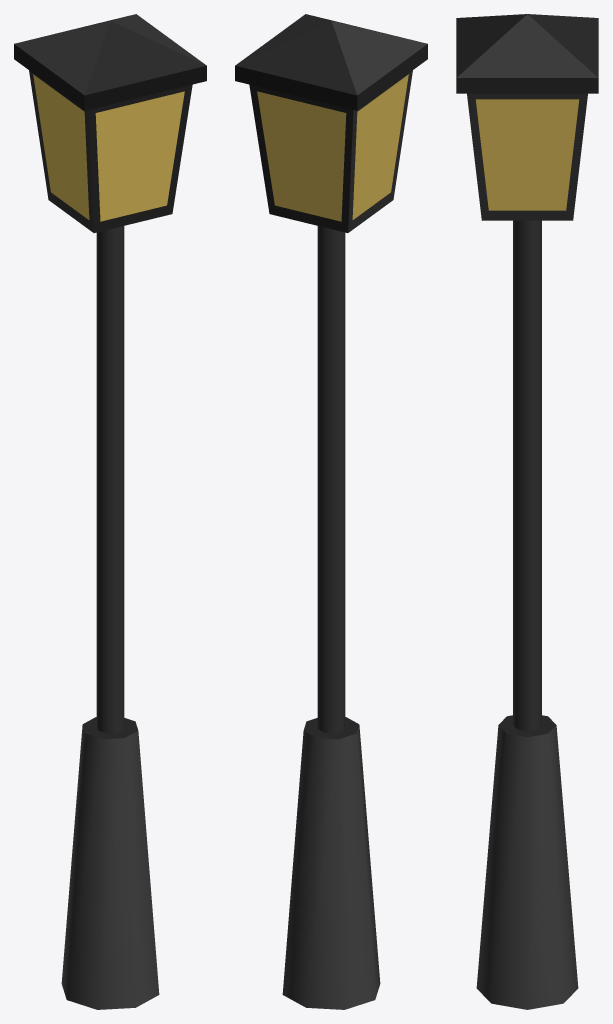
The model's file is street_light002.FBX.
3 renders of one model, left to right at view 1: azimuth 30°, elevation 25°; view 2: azimuth 150°, elevation 25°; view 3: azimuth 270°, elevation 25°, orthographic.
Visible parts, largest first — view 1: street_light002; view 2: street_light002; view 3: street_light002.
Boxes of the visible parts, <box> form: street_light002: <box>14,14,206,1009</box>; street_light002: <box>235,14,427,1009</box>; street_light002: <box>456,14,598,1009</box>.
Size of the model in its own units: 19.55 by 148 by 19.55.
